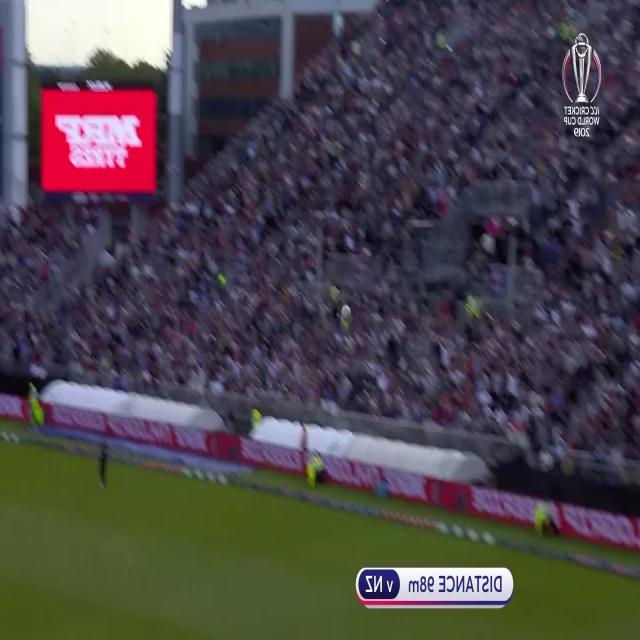ball: (341, 304, 351, 323)
